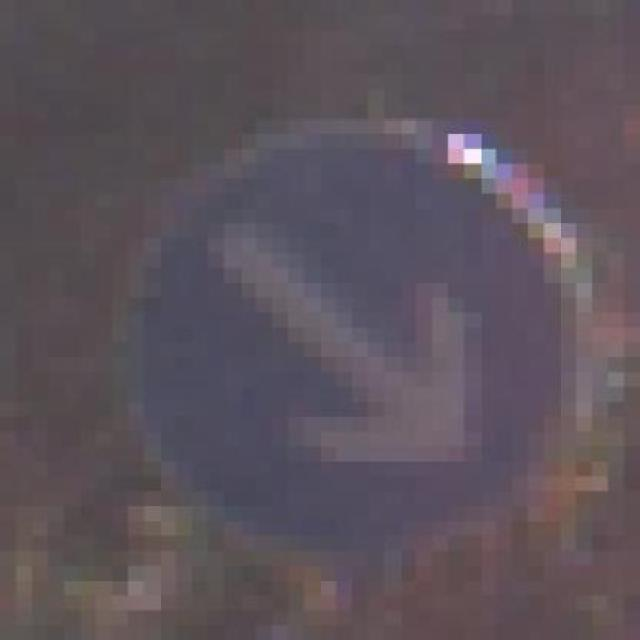Keep-Right: (64, 74, 624, 580)
